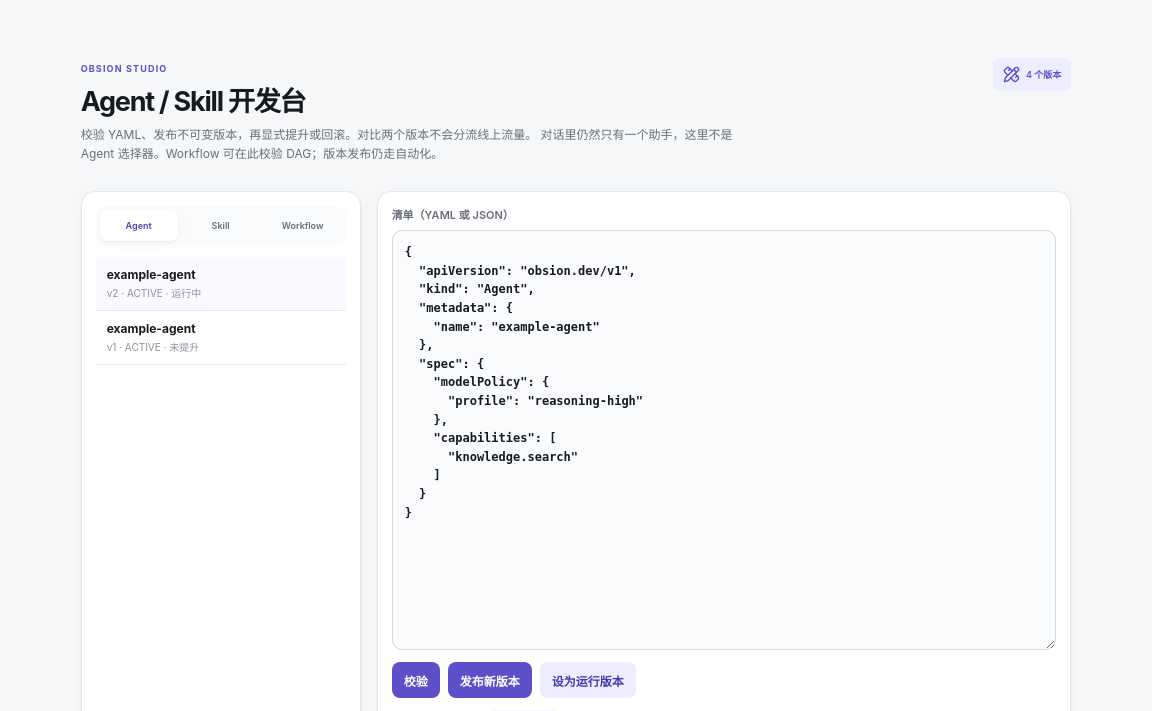
Test case: StudioView interactions › rolls back by promoting an older immutable version without rewriting it
The width and height of the screenshot is (1152, 711).
Click the button "example-agent v1 · ACTIVE · 未提升": coordinates (221, 338) [96,311,346,365]
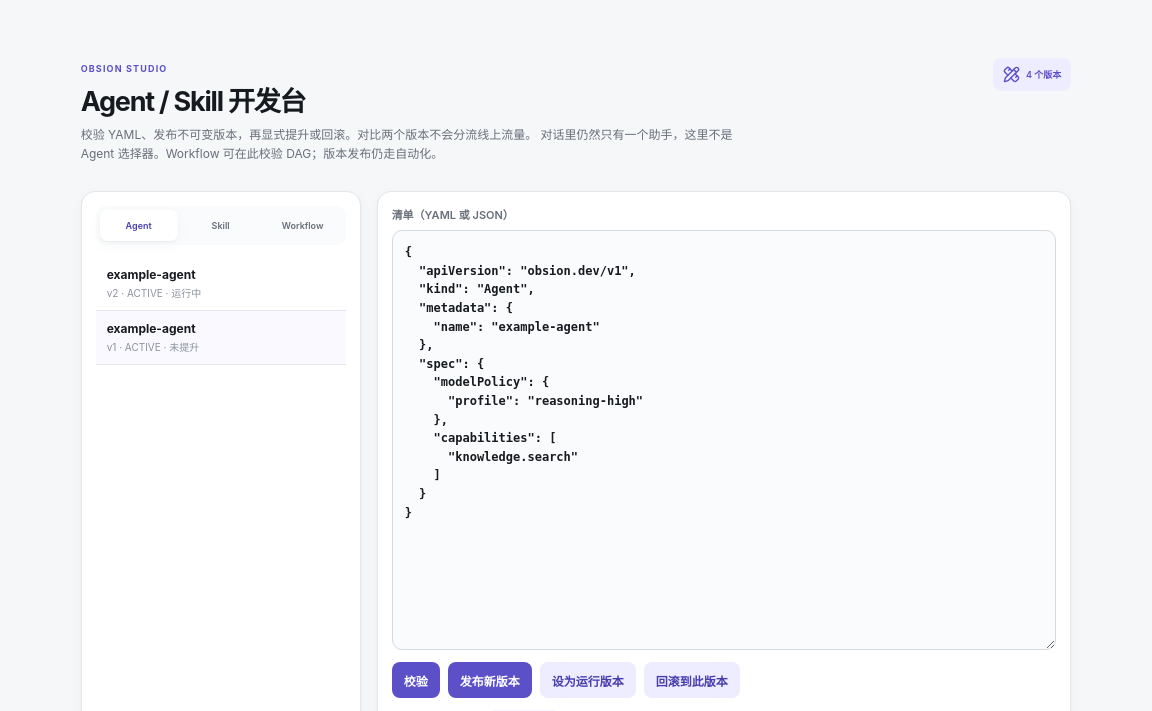
Click the button "回滚到此版本": coordinates (692, 680) [644,662,740,698]
(page scrolled)
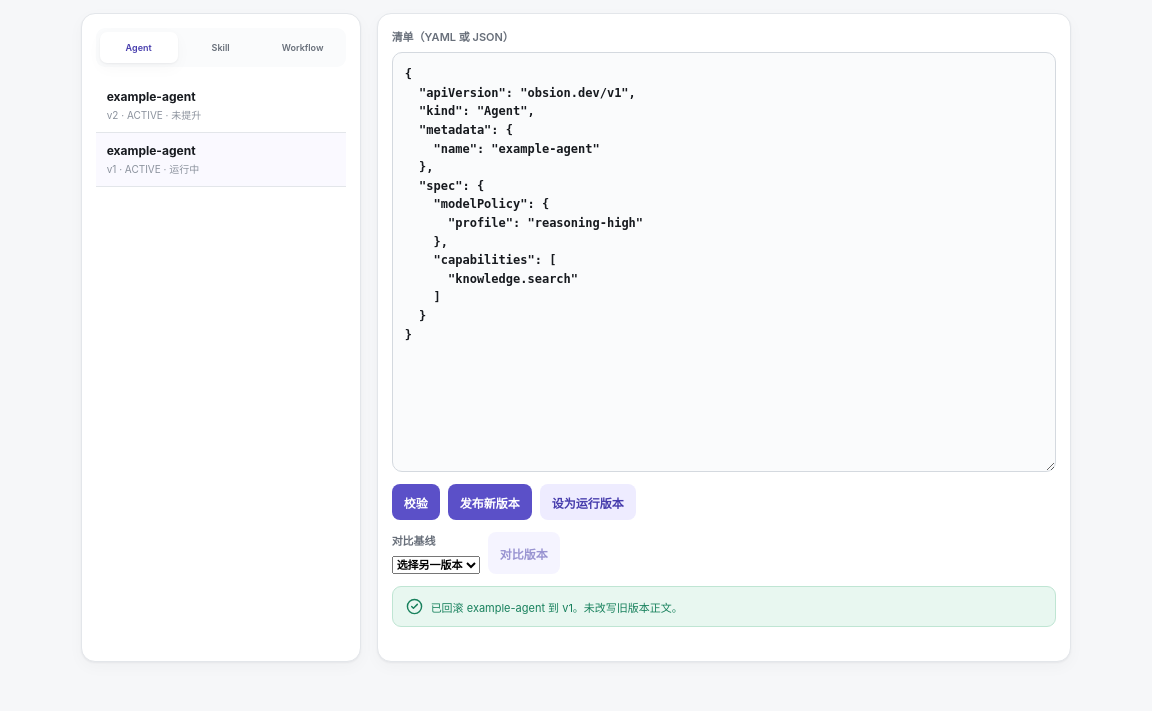
Check: the text "已回滚 example-agent 到 v1。未改写旧版本正文。" is shown, box [431,599,683,615]
